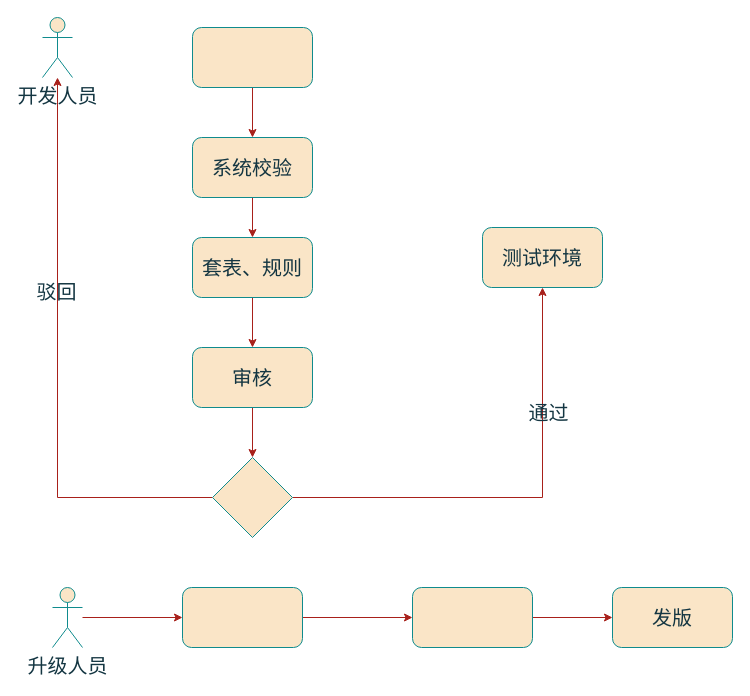
Image size: 750x696. Some labels were removed from this diagram. The centre of each missing label's shape, as x and y in pixels:
下载配置: the point at 242,617
提交配置、脚本: the point at 252,57
是否通过: the point at 252,497
配置生产: the point at 472,617
